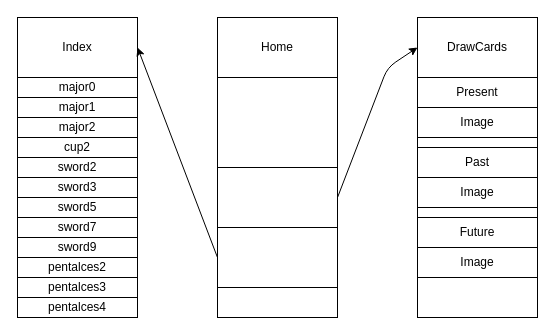
This 555x335 diagram has some shape labels left out. The centre of each missing label's shape, as x and y in pixels:
"Index of cards" belongs at point 277,257.
"Message: Present, Past, Future" belongs at point 477,297.
"Seek Fortune" belongs at point 277,197.
